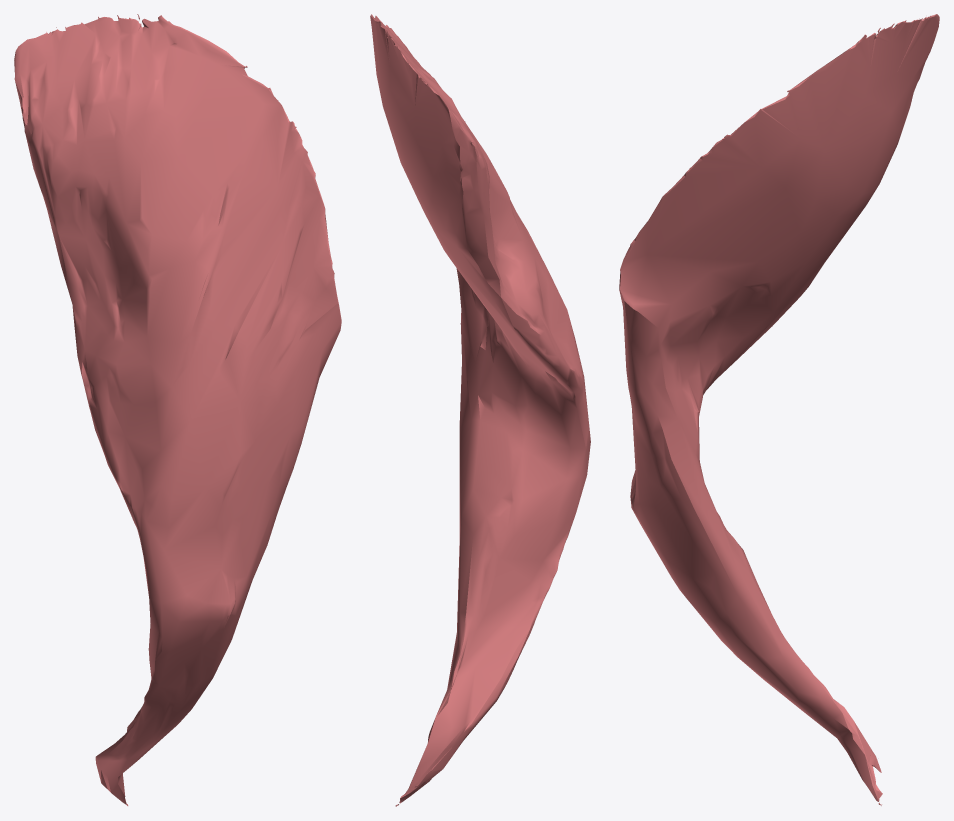
3 views of the same model, side by side, from view 1: azimuth 30°, elevation 25°; view 2: azimuth 150°, elevation 25°; view 3: azimuth 270°, elevation 25° (orthographic). The views are drawn at different scales.
Visible parts, largest first — view 1: FJ1422M; view 2: FJ1422M; view 3: FJ1422M.
Part boxes in pixels (box(x1,y1,x2,y2)): FJ1422M: box(14, 14, 341, 805); FJ1422M: box(370, 14, 590, 806); FJ1422M: box(619, 14, 939, 805).
Size of the model in its own units: 0.0542 by 0.223 by 0.0826.
